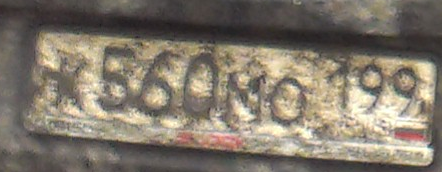character: (179, 45, 219, 123), (136, 47, 177, 122), (223, 69, 266, 132), (97, 41, 132, 114), (271, 70, 310, 132), (385, 61, 425, 120), (50, 50, 84, 115), (352, 60, 388, 114), (322, 61, 354, 113)
